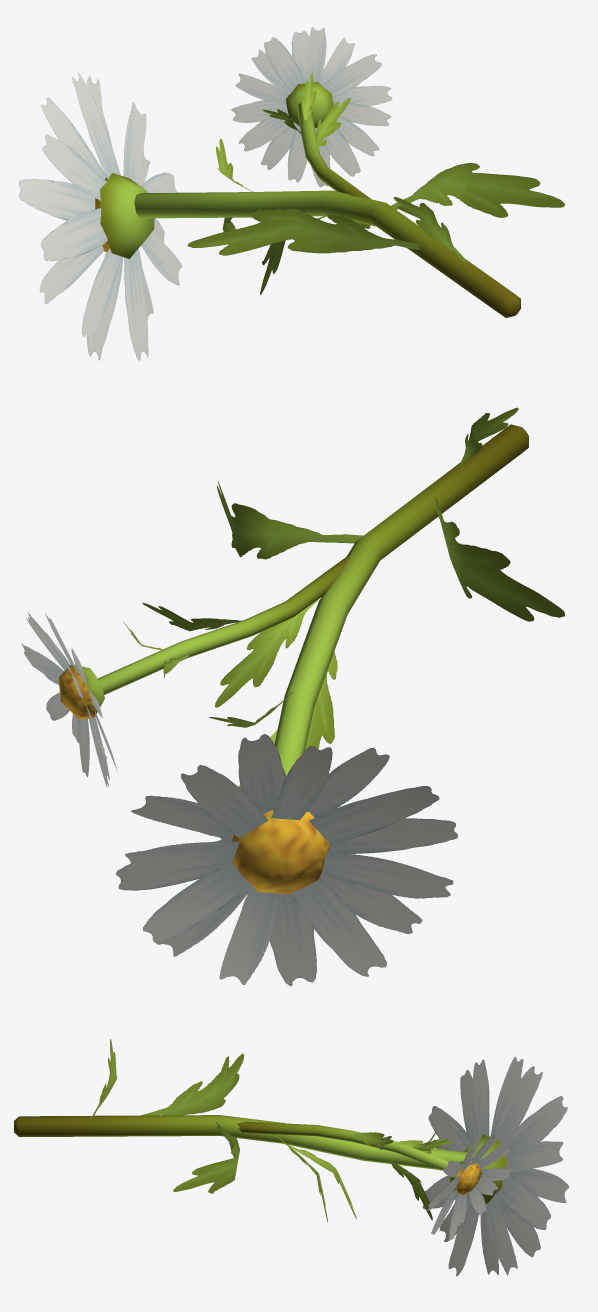
File: SM_Daisy_Double.fbx
3 renders of one model, top to bottom at view 1: azimuth 30°, elevation 25°; view 2: azimuth 150°, elevation 25°; view 3: azimuth 270°, elevation 25°, orthographic. The views are drawn at different scales.
Parts seen in each view (by area): view 1: Daisy_Double; view 2: Daisy_Double; view 3: Daisy_Double.
Boxes of the visible parts, box(x1,y1,x2,y2) form: Daisy_Double: box(19, 27, 564, 361); Daisy_Double: box(21, 407, 564, 986); Daisy_Double: box(14, 1039, 569, 1276).
Size of the model in its own units: 64.73 by 51.44 by 102.
